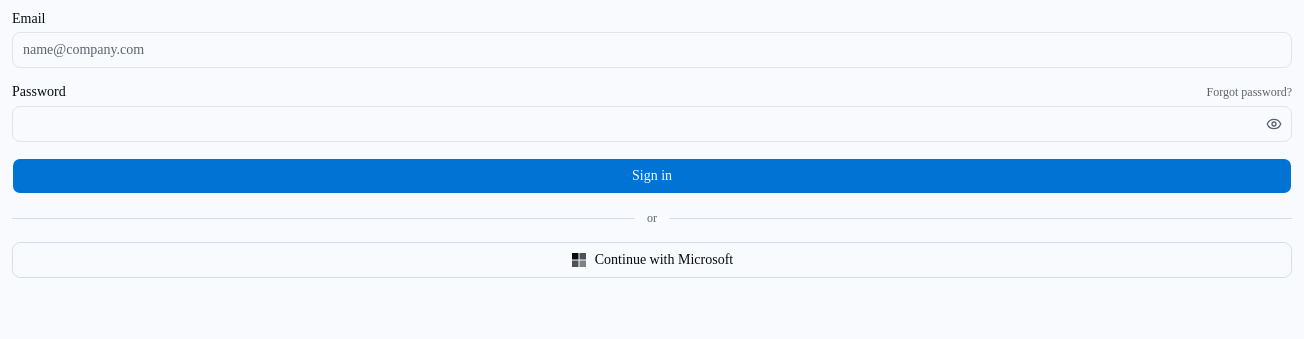
Test: LoginForm › shows inline errors and does not submit an empty form
Click the button "Sign in": x=652, y=176 [12,158,1292,194]
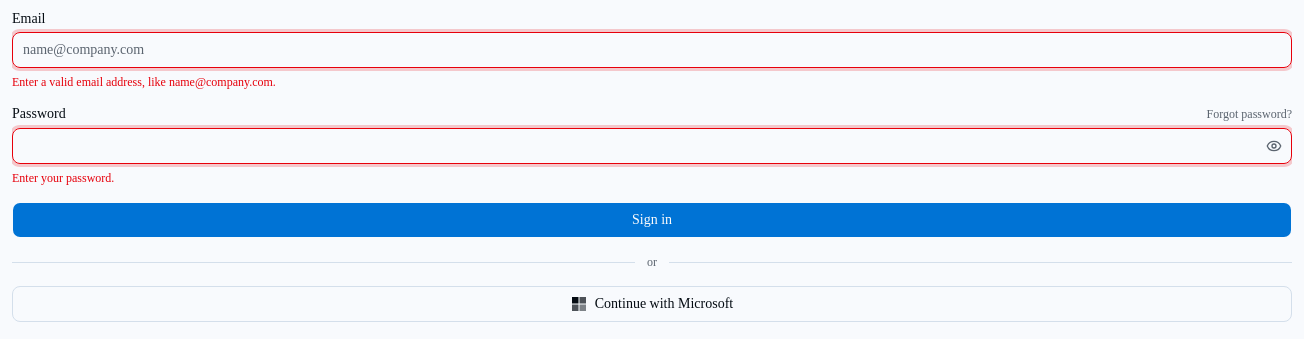
Check: the text "Enter a valid email address, like name@company.com." is shown, box [12,75,276,89]
Check: the text "Enter your password." is shown, box [12,171,114,185]
